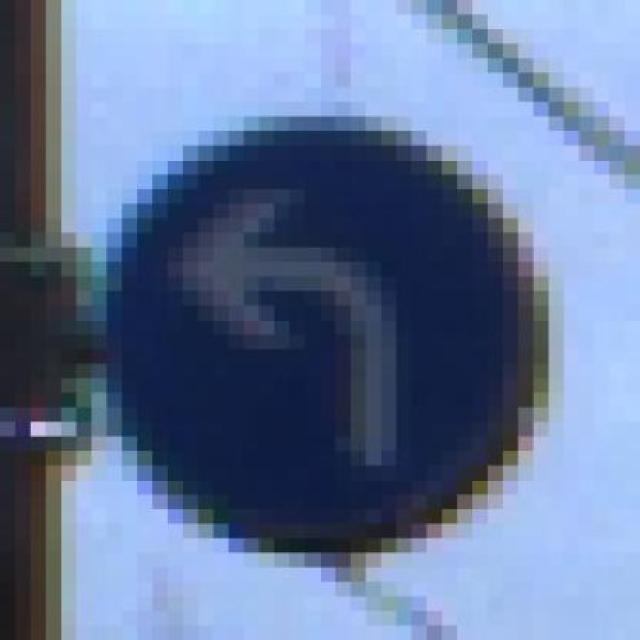Turn left ahead: (107, 87, 564, 582)
